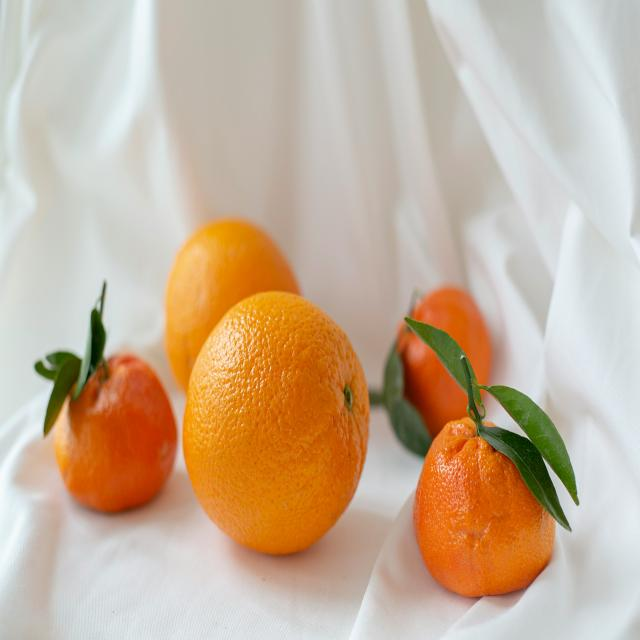tangerine: (413, 418, 556, 596), (53, 353, 176, 512), (395, 290, 491, 439)
